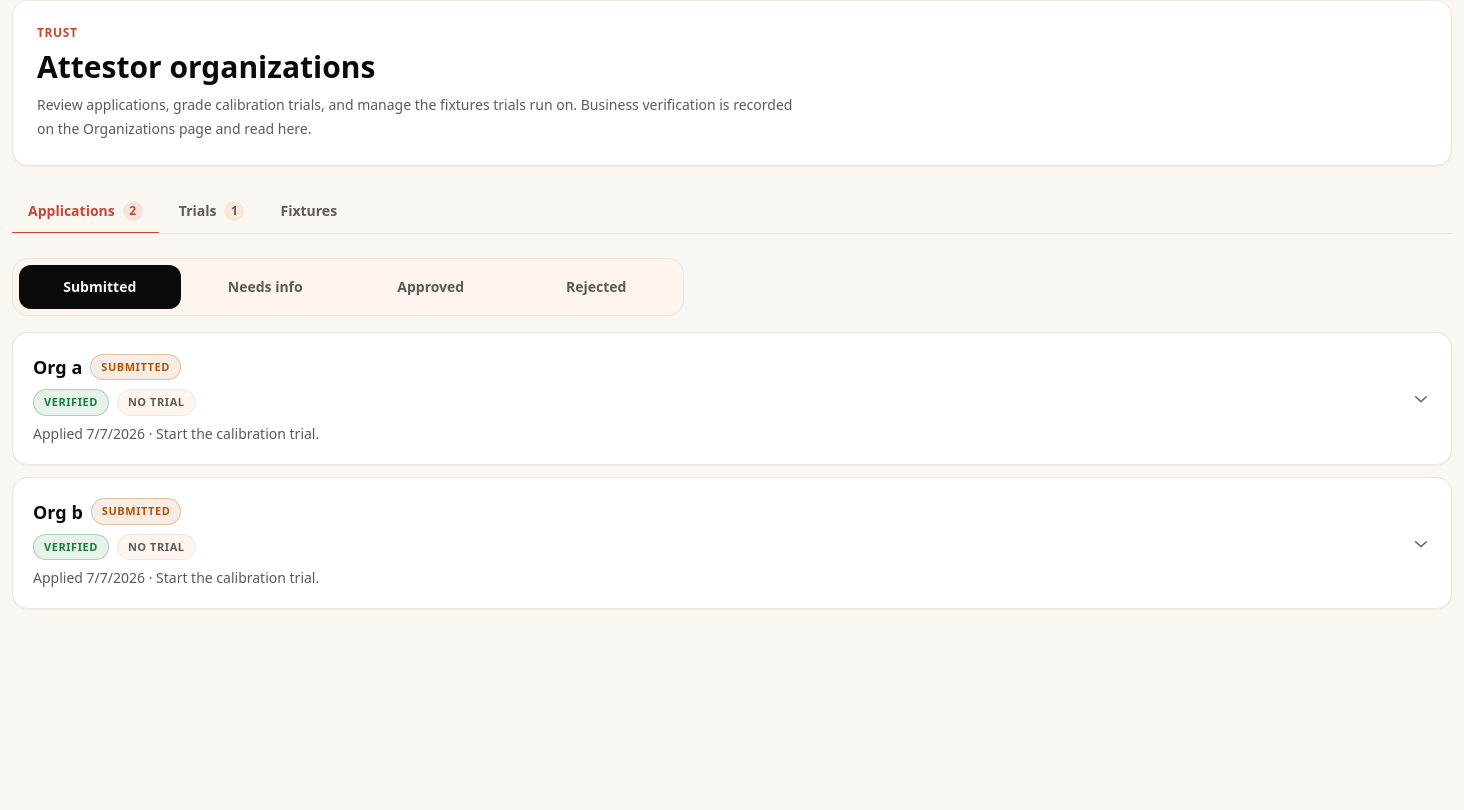
Scenario: AdminAttestorsConsole › filters the application queue by status
Check: the heading "Org a" is shown, box [33,353,82,381]
Click the button "Rejected" at (596, 287), box [516,265,677,309]
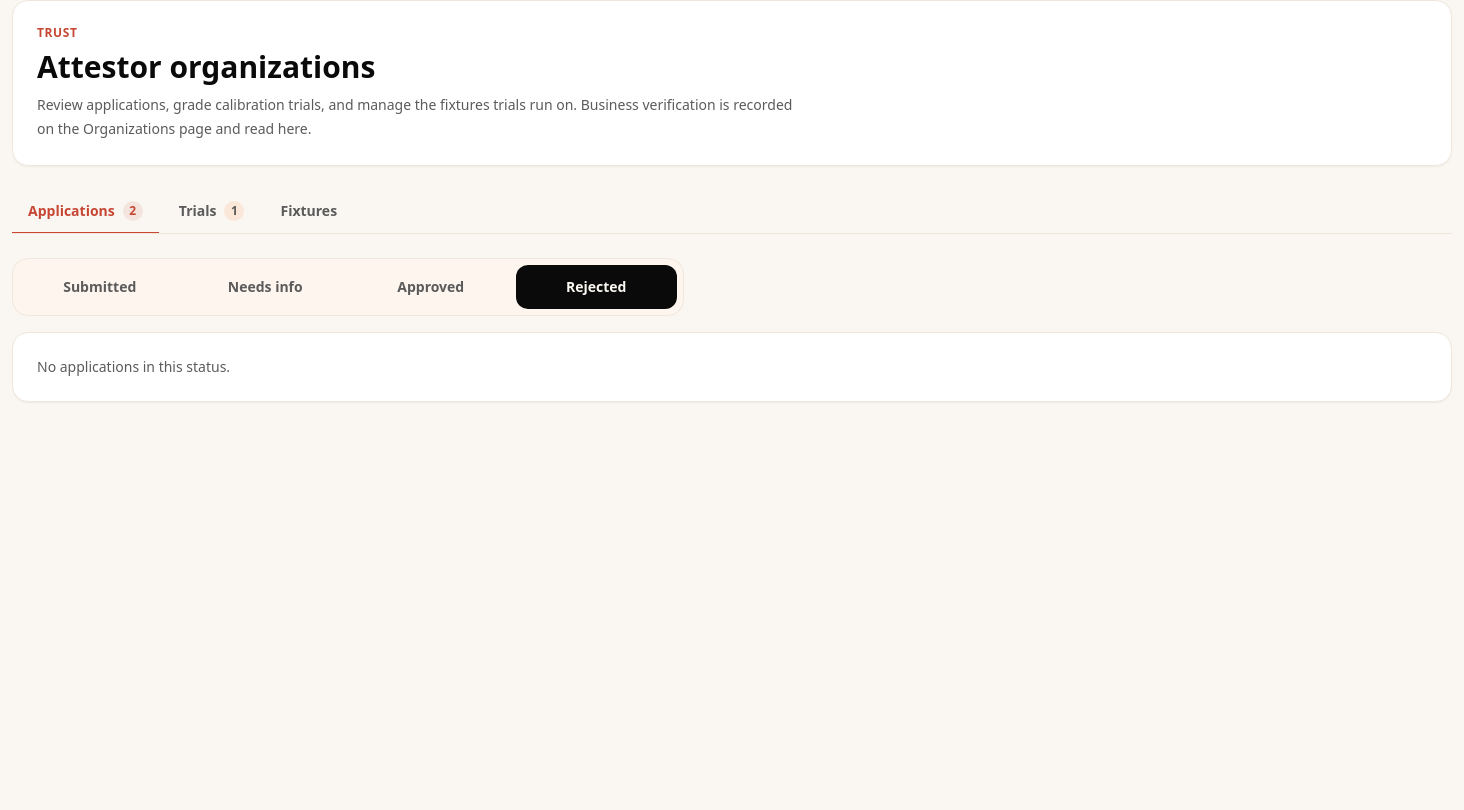
Check: the text "No applications in this status." is shown, box [12,332,1452,402]
